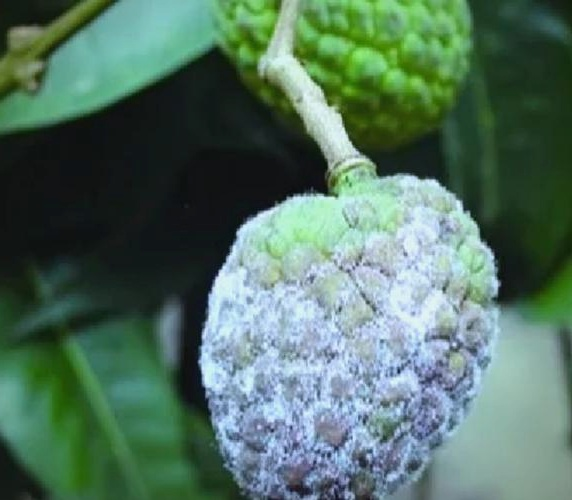Frost_Blight: (204, 218, 483, 490)
